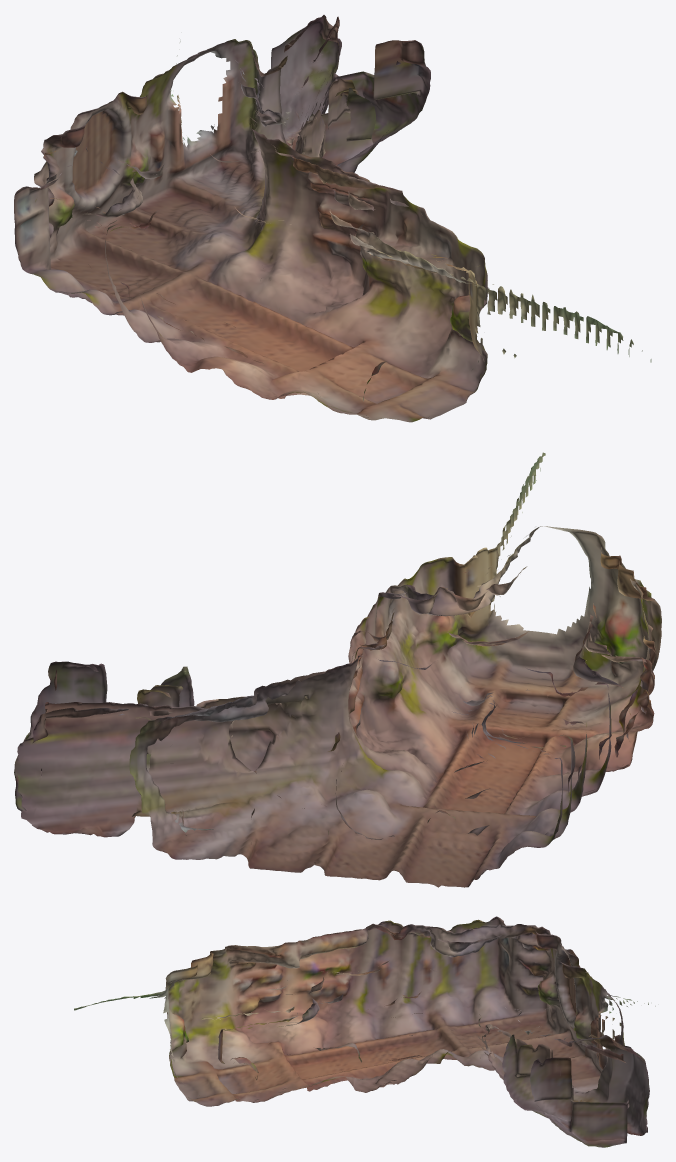
The picture shows the model from 3 angles, top to bottom: view 1: azimuth 30°, elevation 25°; view 2: azimuth 150°, elevation 25°; view 3: azimuth 270°, elevation 25°; orthographic projection. The views are drawn at different scales.
Visible parts, largest first — view 1: world; view 2: world; view 3: world.
Part boxes in pixels (left/top/right/bottom): world: left=14, top=15, right=651, bottom=422; world: left=14, top=452, right=661, bottom=887; world: left=74, top=916, right=655, bottom=1147.
Size of the model in its own units: 5.73 by 1.88 by 9.25.
